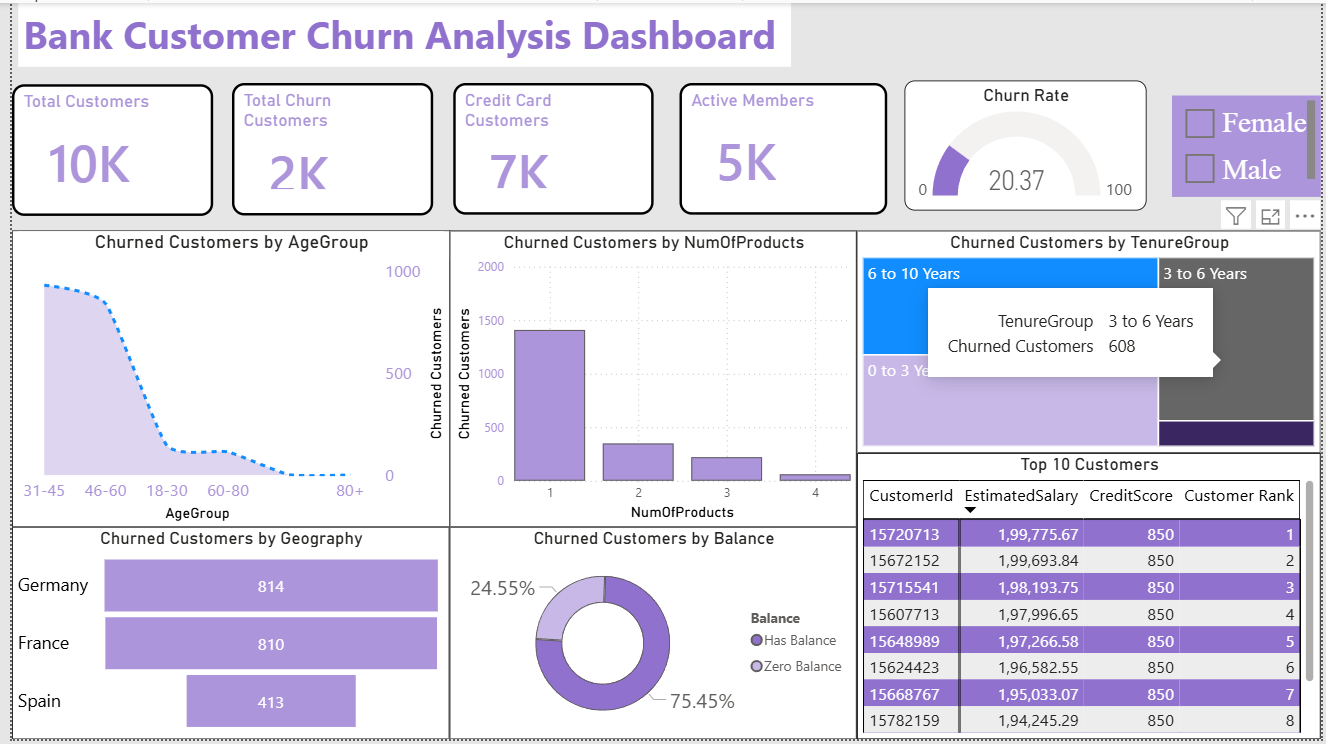

Layout of this report page (visuals, bound fields, positions):
{"tool":"powerbi","page":{"name":"Page 1","canvas":[1280,720],"ordinal":0},"visuals":[{"type":"cardVisual","title":"Total Churn Customers ","fields":{"Data":["Sum(cleaned_customers.Exited)"]},"box":[214.7,77.9,196.8,129.5],"z":0},{"type":"cardVisual","title":"Credit Card Customers ","fields":{"Data":["Sum(cleaned_customers.Has Credit Card)"]},"box":[431.6,77.9,195.8,128.4],"z":1000},{"type":"cardVisual","title":"Total Customers ","fields":{"Data":["CountNonNull(cleaned_customers.CustomerId)"]},"box":[0,78.9,196.8,128.4],"z":2000},{"type":"cardVisual","title":"Active Members ","fields":{"Data":["Sum(cleaned_customers.ActiveMember)"]},"box":[652.6,77.9,203.2,128.4],"z":3000},{"type":"slicer","fields":{"Values":["cleaned_customers.Gender"]},"box":[1134.7,90.5,145.3,98.9],"z":4000},{"type":"lineChart","fields":{"Y2":["cleaned_customers.Churned Customers"],"Category":["cleaned_customers.AgeGroup"]},"box":[0,222.1,428.4,290.5],"z":5000},{"type":"funnel","fields":{"Category":["cleaned_customers.Geography"],"Y":["cleaned_customers.Churned Customers"]},"box":[0,512.4,428,207.9],"z":6000},{"type":"columnChart","fields":{"Category":["cleaned_customers.NumOfProducts"],"Y":["cleaned_customers.Churned Customers"]},"box":[427.5,222.5,398.8,290],"z":7000},{"type":"treemap","fields":{"Group":["cleaned_customers.TenureGroup"],"Values":["cleaned_customers.Churned Customers"]},"box":[826.2,222.5,453.8,217.5],"z":8000},{"type":"gauge","fields":{"Y":["cleaned_customers.Churn Rate"]},"box":[872.6,75.8,236.8,127.4],"z":9000},{"type":"donutChart","fields":{"Y":["cleaned_customers.Churned Customers"],"Category":["cleaned_customers.Balance"]},"box":[428,512.4,398.6,207.9],"z":9001},{"type":"pivotTable","title":"Top 10 Customers ","fields":{"Values":["Sum(cleaned_customers.EstimatedSalary)","Sum(cleaned_customers.CreditScore)","cleaned_customers.Customer Rank"],"Rows":["cleaned_customers.CustomerId"]},"box":[826.2,440,453.8,280],"z":9002},{"type":"textbox","box":[6.2,0,756.2,62.5],"z":9003}]}

Visuals, with their boxes in screenshot pixels (x1, y1, x2, y2), scaled from the page's 1280x720 canvas onto the 1326x744 screenshot:
"Total Churn Customers " cardVisual: [222, 80, 426, 214]
"Credit Card Customers " cardVisual: [447, 80, 650, 213]
"Total Customers " cardVisual: [0, 82, 204, 214]
"Active Members " cardVisual: [676, 80, 887, 213]
slicer - cleaned_customers.Gender: [1175, 94, 1325, 196]
lineChart - cleaned_customers.Churned Customers x cleaned_customers.AgeGroup: [0, 230, 444, 530]
funnel - cleaned_customers.Geography x cleaned_customers.Churned Customers: [0, 529, 443, 743]
columnChart - cleaned_customers.NumOfProducts x cleaned_customers.Churned Customers: [443, 230, 856, 530]
treemap - cleaned_customers.TenureGroup x cleaned_customers.Churned Customers: [856, 230, 1325, 455]
gauge - cleaned_customers.Churn Rate: [904, 78, 1149, 210]
donutChart - cleaned_customers.Churned Customers x cleaned_customers.Balance: [443, 529, 856, 743]
"Top 10 Customers " pivotTable: [856, 455, 1325, 743]
textbox: [6, 0, 790, 65]
